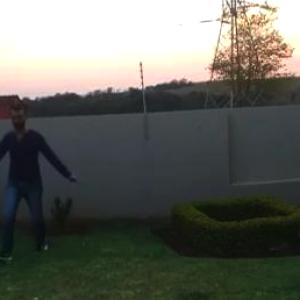land: (1, 119, 73, 259)
